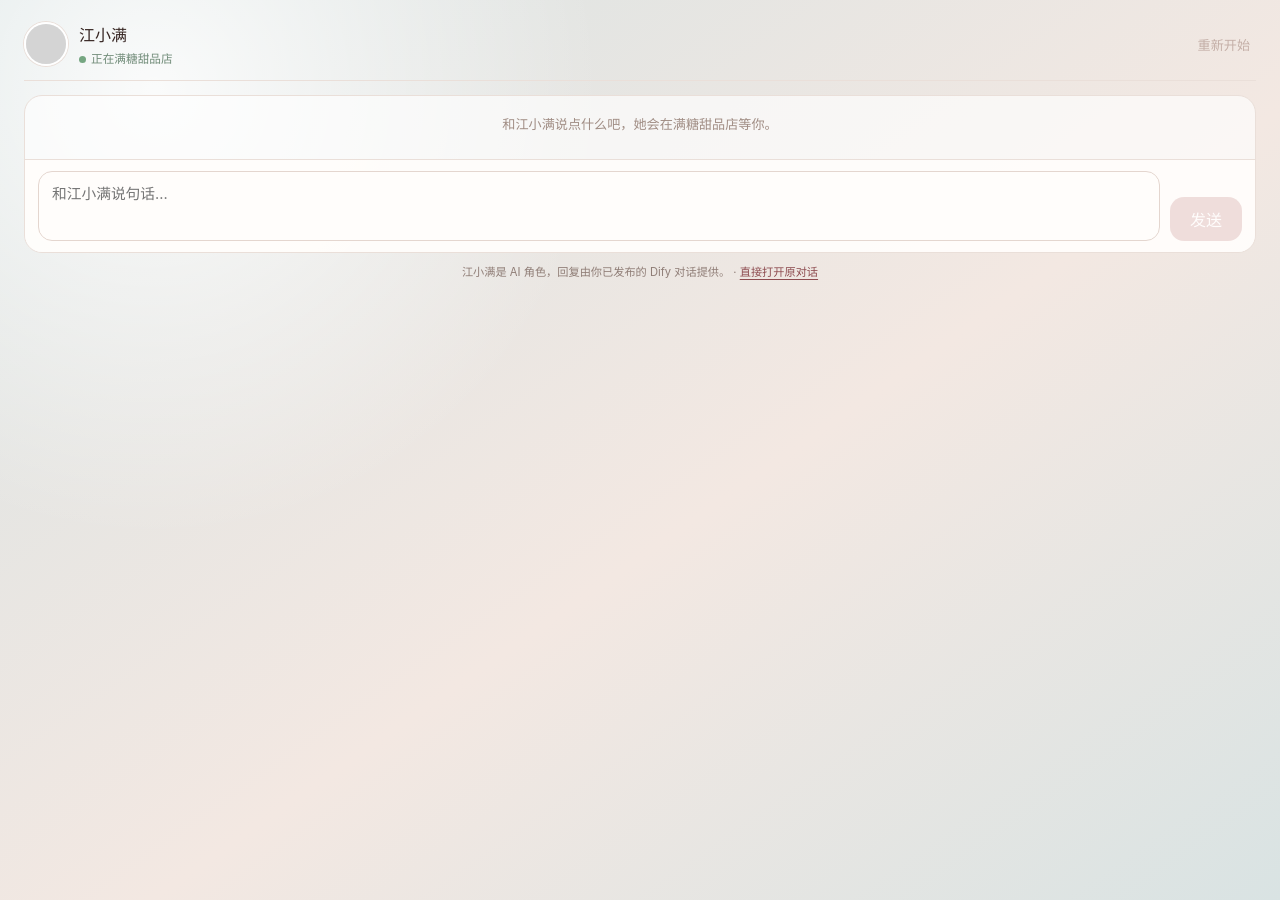
ChatPanel › keeps the draft and lets the user retry after a proxy failure
The width and height of the screenshot is (1280, 900).
Type "再问一次" into the text box named "和江小满聊天" at (599, 206), box [38, 171, 1160, 241]
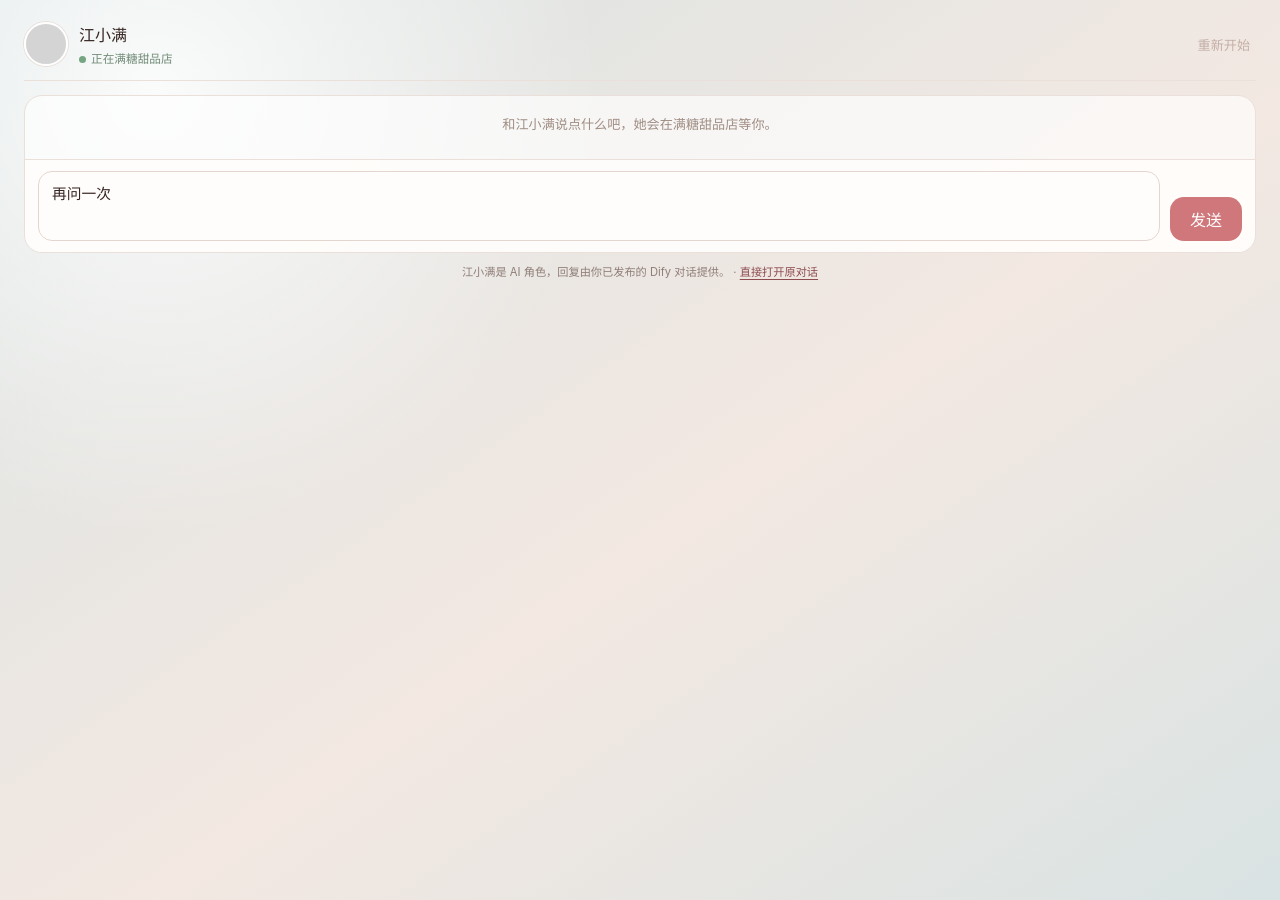
Press Enter in the text box named "和江小满聊天", box [38, 171, 1160, 241]
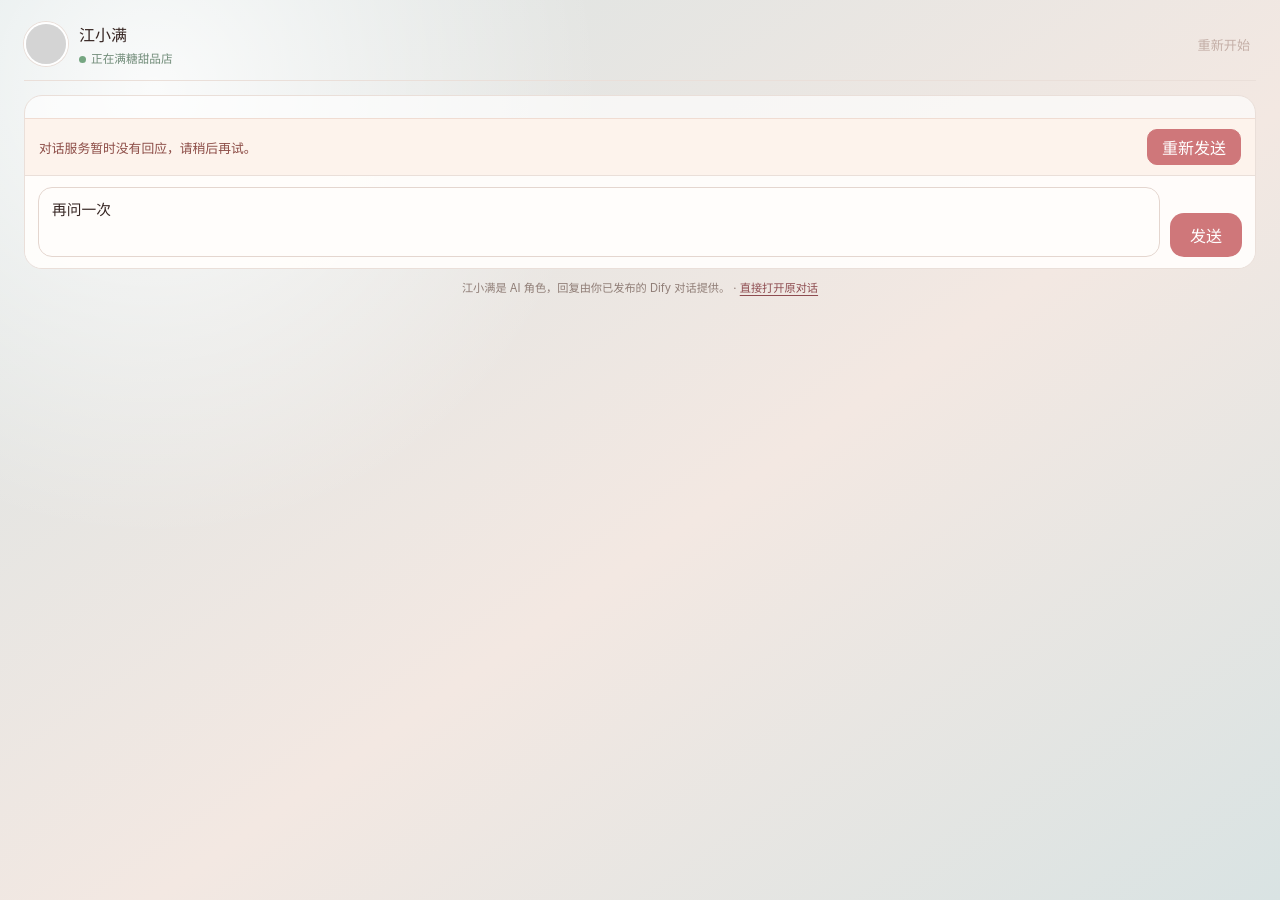
Now the message shows "对话服务暂时没有回应", box [39, 140, 256, 156]
Click the button "重新发送" at (1194, 147), box [1147, 129, 1241, 165]
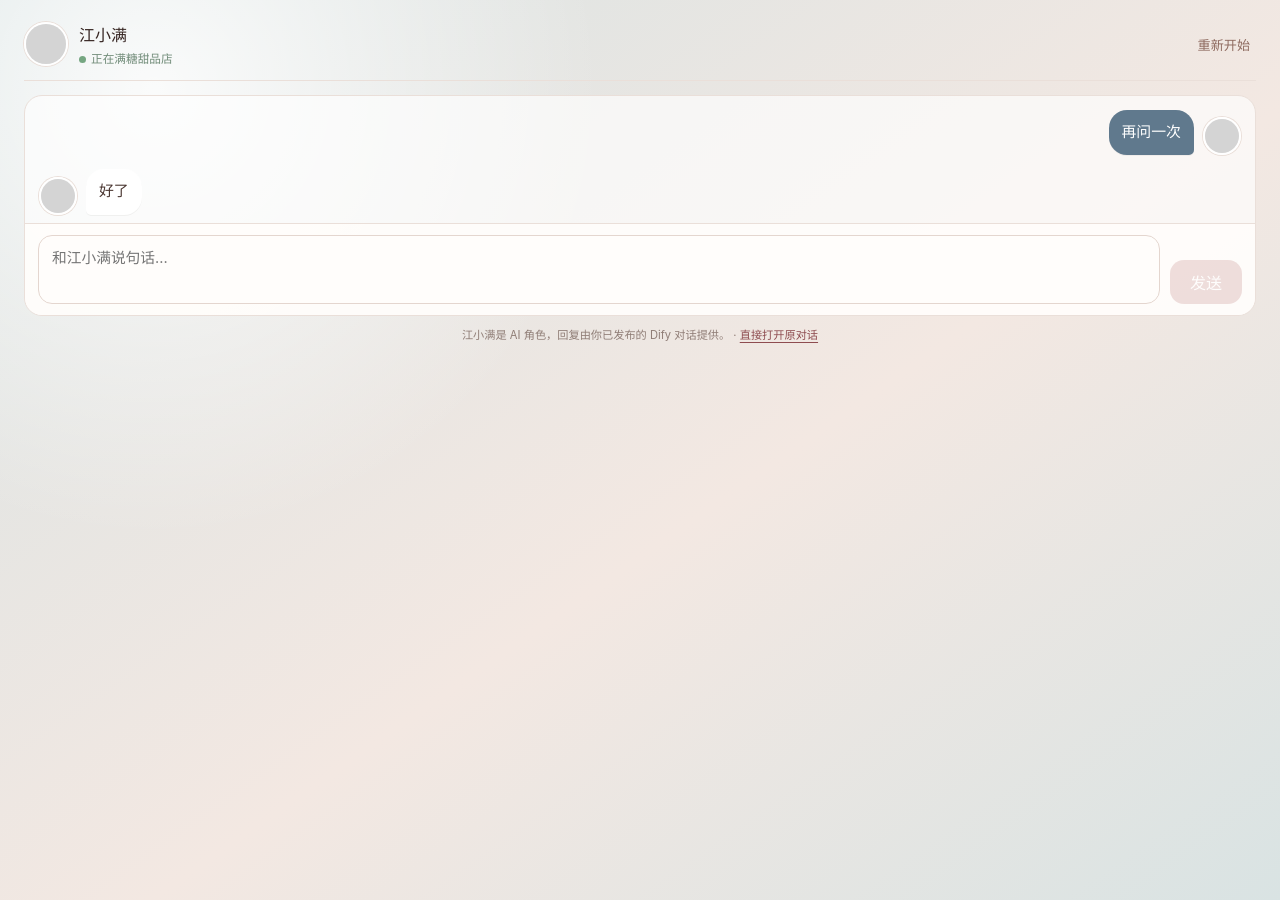
Now the text "好了" is shown, box [86, 169, 142, 215]
